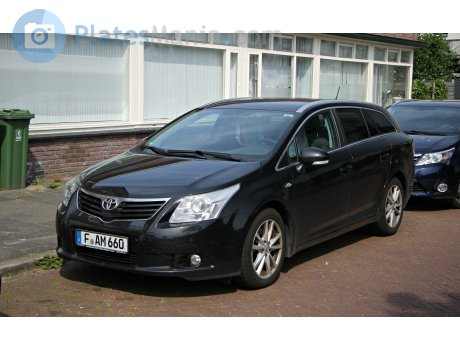License Plates: (84, 231, 121, 246)
